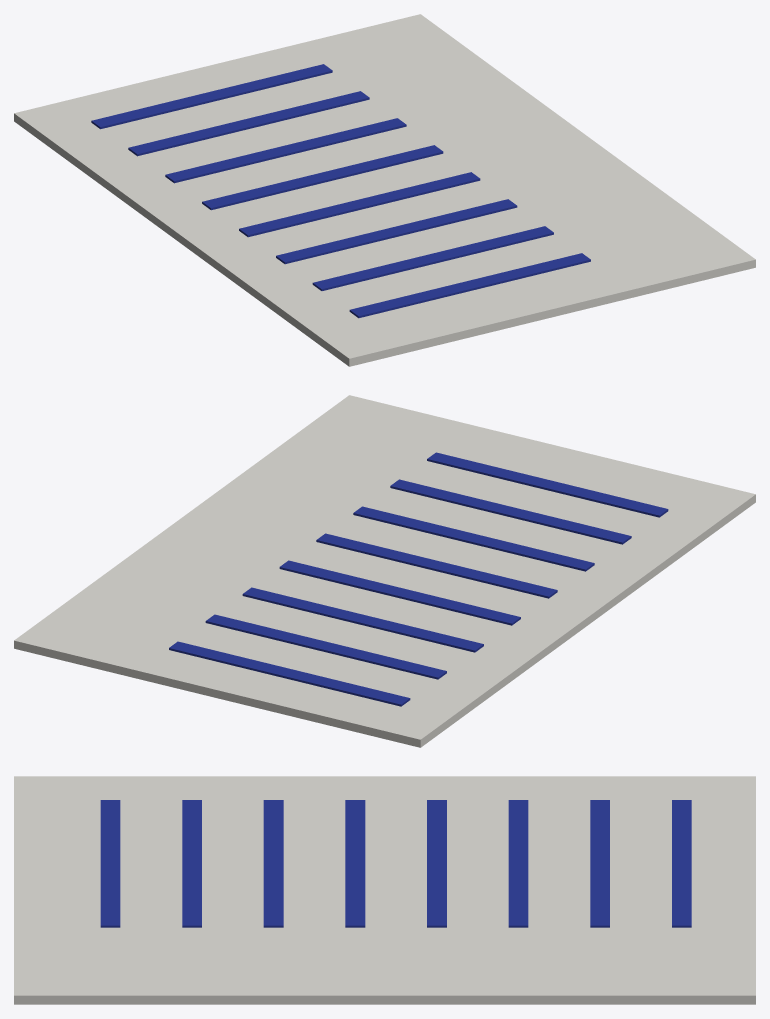
The model's file is winners_list.glb.
3 renders of one model, top to bottom at view 1: azimuth 30°, elevation 25°; view 2: azimuth 150°, elevation 25°; view 3: azimuth 270°, elevation 25°, orthographic. The views are drawn at different scales.
Visible parts, largest first — view 1: sheet_list_paper, rows_ink_blue; view 2: sheet_list_paper, rows_ink_blue; view 3: sheet_list_paper, rows_ink_blue.
Boxes of the visible parts, x1=… form: sheet_list_paper: x1=14, y1=14, x2=755, y2=366; rows_ink_blue: x1=91, y1=64, x2=590, y2=318; sheet_list_paper: x1=14, y1=395, x2=755, y2=747; rows_ink_blue: x1=169, y1=452, x2=668, y2=706; sheet_list_paper: x1=14, y1=776, x2=755, y2=1004; rows_ink_blue: x1=100, y1=800, x2=691, y2=927.
Bounding box in the file's own units: 0.21 × 0.005 × 0.3.
